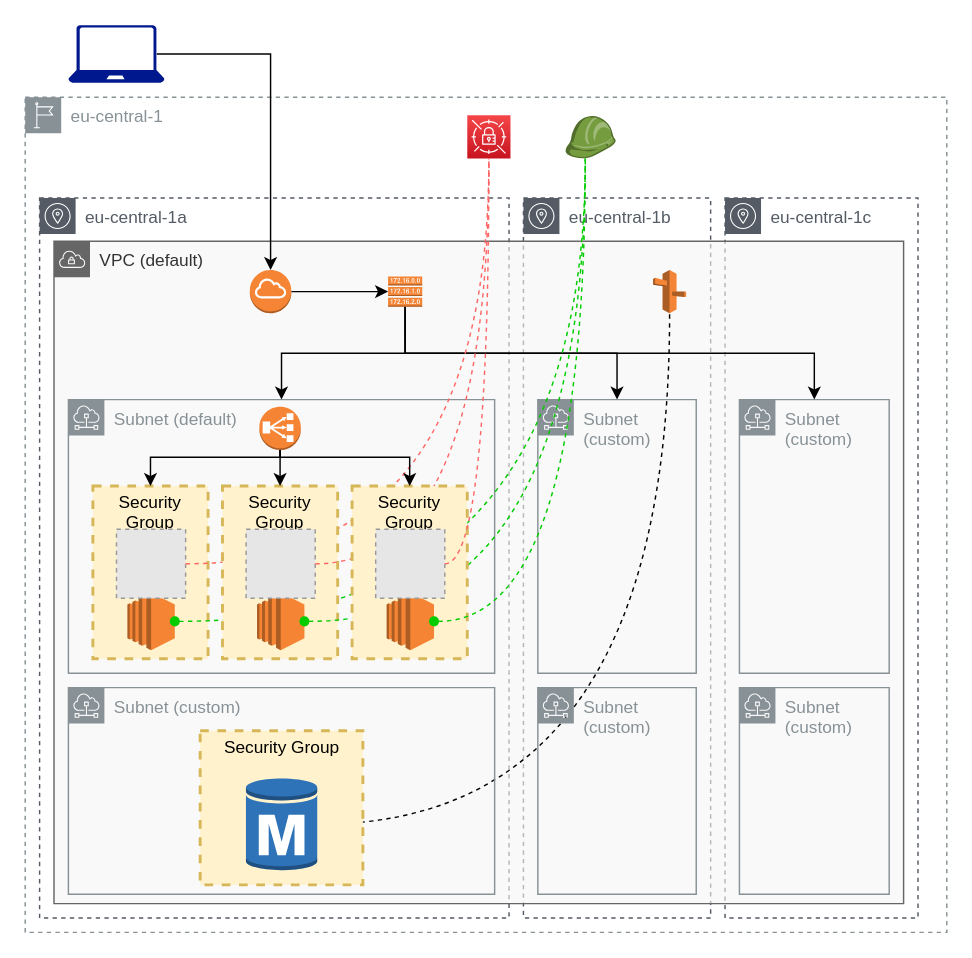
Image size: 972x958. Some labels were removed from this diagram. Grey dashed boxes stand in for pictures. Each missing label, with the centre of its shape:
"db secrets" goes at (488,136).
"IAM role" goes at (590,136).
"Internet gateway" goes at (269,291).
"Route 53" goes at (669,291).
"Route table public" goes at (404,291).
